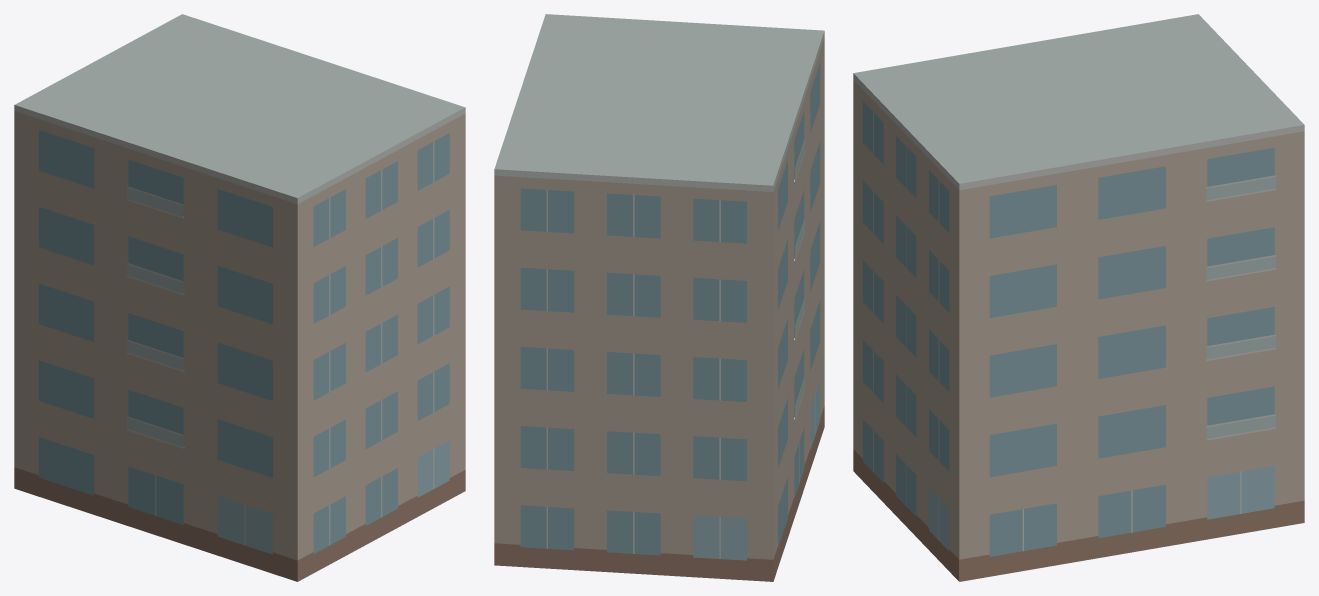
The model's file is residential-f3a3de93-d8f9-4c7c-8d09-d7d9e3973f73.glb.
3 renders of one model, left to right at view 1: azimuth 30°, elevation 25°; view 2: azimuth 150°, elevation 25°; view 3: azimuth 270°, elevation 25°, orthographic. The views are drawn at different scales.
Visible parts, largest first — view 1: residential-f3a3de93-d8f9-4c7c-8d09-d7d9e3973f73.tmp; view 2: residential-f3a3de93-d8f9-4c7c-8d09-d7d9e3973f73.tmp; view 3: residential-f3a3de93-d8f9-4c7c-8d09-d7d9e3973f73.tmp.
Part boxes in pixels (bbox=[...]): residential-f3a3de93-d8f9-4c7c-8d09-d7d9e3973f73.tmp: bbox=[14, 14, 465, 581]; residential-f3a3de93-d8f9-4c7c-8d09-d7d9e3973f73.tmp: bbox=[494, 14, 824, 581]; residential-f3a3de93-d8f9-4c7c-8d09-d7d9e3973f73.tmp: bbox=[853, 14, 1304, 581].
Bounding box in the file's own units: 13.98 × 15.25 × 15.68.
